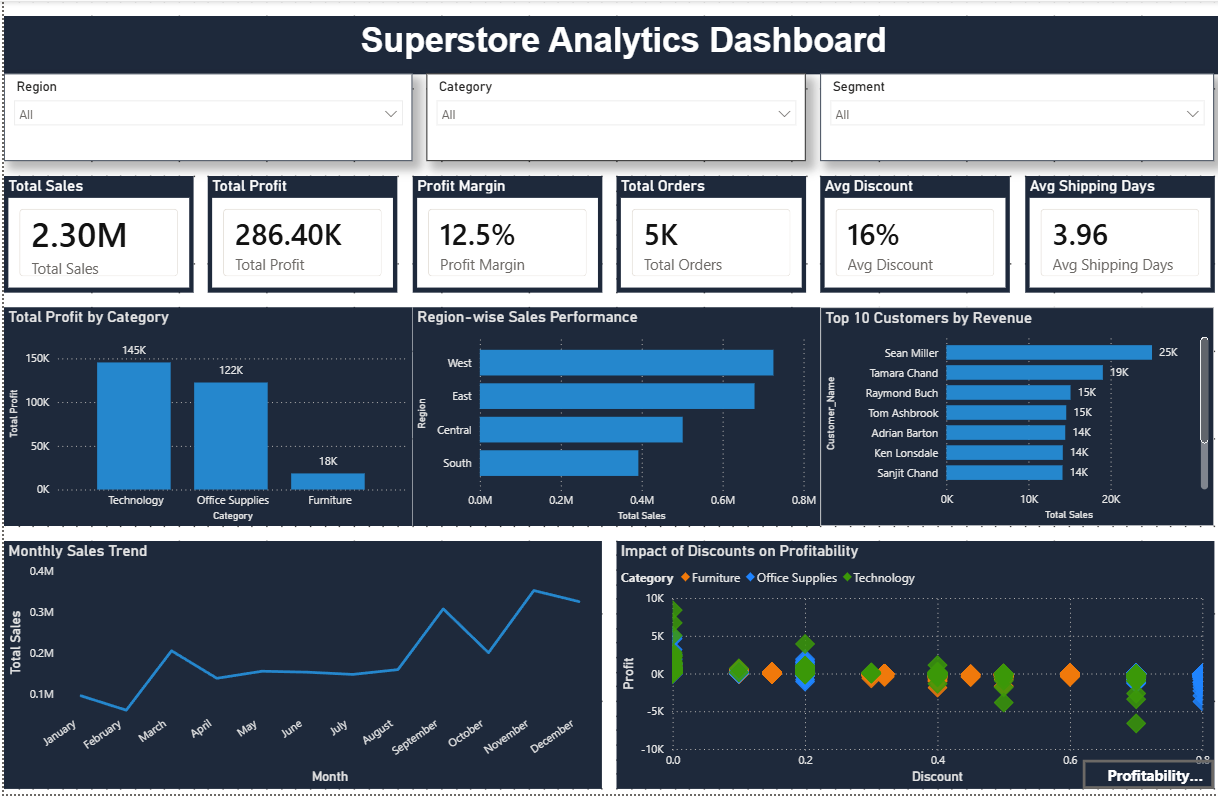

What the dashboard file says about the page in this screenshot:
{"tool":"powerbi","page":{"name":"Executive Overview","canvas":[1332,870],"ordinal":0},"visuals":[{"type":"cardVisual","title":"Total Sales","fields":{"Data":["engineered_superstore.Total Sales1"]},"box":[0,192,208,128],"z":0},{"type":"cardVisual","title":"Total Profit","fields":{"Data":["engineered_superstore.Total Profit1"]},"box":[224,192,208,128],"z":1000},{"type":"cardVisual","title":"Profit Margin","fields":{"Data":["engineered_superstore.Profit Margin1"]},"box":[448,192,208,128],"z":2000},{"type":"cardVisual","title":"Total Orders","fields":{"Data":["engineered_superstore.Total Orders1"]},"box":[672,192,208,128],"z":3000},{"type":"cardVisual","title":"Avg Discount","fields":{"Data":["engineered_superstore.Avg Discount1"]},"box":[896,192,208,128],"z":4000},{"type":"cardVisual","title":"Avg Shipping Days","fields":{"Data":["engineered_superstore.Avg Shipping Days1"]},"box":[1120,192,208,128],"z":5000},{"type":"lineChart","title":"Monthly Sales Trend","fields":{"Category":["DateTable.Month"],"Y":["engineered_superstore.Total Sales"]},"box":[0,592,656,272],"z":6000},{"type":"clusteredBarChart","title":"Region-wise Sales Performance","fields":{"Category":["engineered_superstore.Region"],"Y":["engineered_superstore.Total Sales"]},"box":[448,336,448,240],"z":7000},{"type":"clusteredColumnChart","fields":{"Category":["engineered_superstore.Category"],"Y":["engineered_superstore.Total Profit"]},"box":[0,336,448,240],"z":8000},{"type":"clusteredBarChart","title":"Top 10 Customers by Revenue","fields":{"Category":["engineered_superstore.Customer_Name"],"Y":["engineered_superstore.Total Sales"]},"box":[896,336,432,240],"z":9000},{"type":"scatterChart","title":"Impact of Discounts on Profitability","fields":{"Series":["engineered_superstore.Category"],"X":["engineered_superstore.Discount"],"Y":["engineered_superstore.Profit"]},"box":[672,592,656,272],"z":10000},{"type":"textbox","box":[0,16,1360,64],"z":11000},{"type":"actionButton","box":[1184,832,144,32],"z":12000},{"type":"slicer","fields":{"Values":["engineered_superstore.Region"]},"box":[0,80,448,96],"z":13000},{"type":"slicer","fields":{"Values":["engineered_superstore.Category"]},"box":[464,80,416,96],"z":14000},{"type":"slicer","fields":{"Values":["engineered_superstore.Segment"]},"box":[896,80,432,96],"z":15000}]}

Visuals, with their boxes in screenshot pixels (x1, y1, x2, y2), scaled from the page's 1332x870 canvas onto the 1218x796 screenshot:
"Total Sales" cardVisual: [left=0, top=176, right=190, bottom=293]
"Total Profit" cardVisual: [left=205, top=176, right=395, bottom=293]
"Profit Margin" cardVisual: [left=410, top=176, right=600, bottom=293]
"Total Orders" cardVisual: [left=614, top=176, right=805, bottom=293]
"Avg Discount" cardVisual: [left=819, top=176, right=1010, bottom=293]
"Avg Shipping Days" cardVisual: [left=1024, top=176, right=1214, bottom=293]
"Monthly Sales Trend" lineChart: [left=0, top=542, right=600, bottom=791]
"Region-wise Sales Performance" clusteredBarChart: [left=410, top=307, right=819, bottom=527]
clusteredColumnChart - engineered_superstore.Category x engineered_superstore.Total Profit: [left=0, top=307, right=410, bottom=527]
"Top 10 Customers by Revenue" clusteredBarChart: [left=819, top=307, right=1214, bottom=527]
"Impact of Discounts on Profitability" scatterChart: [left=614, top=542, right=1214, bottom=791]
textbox: [left=0, top=15, right=1217, bottom=73]
actionButton: [left=1083, top=761, right=1214, bottom=791]
slicer - engineered_superstore.Region: [left=0, top=73, right=410, bottom=161]
slicer - engineered_superstore.Category: [left=424, top=73, right=805, bottom=161]
slicer - engineered_superstore.Segment: [left=819, top=73, right=1214, bottom=161]
